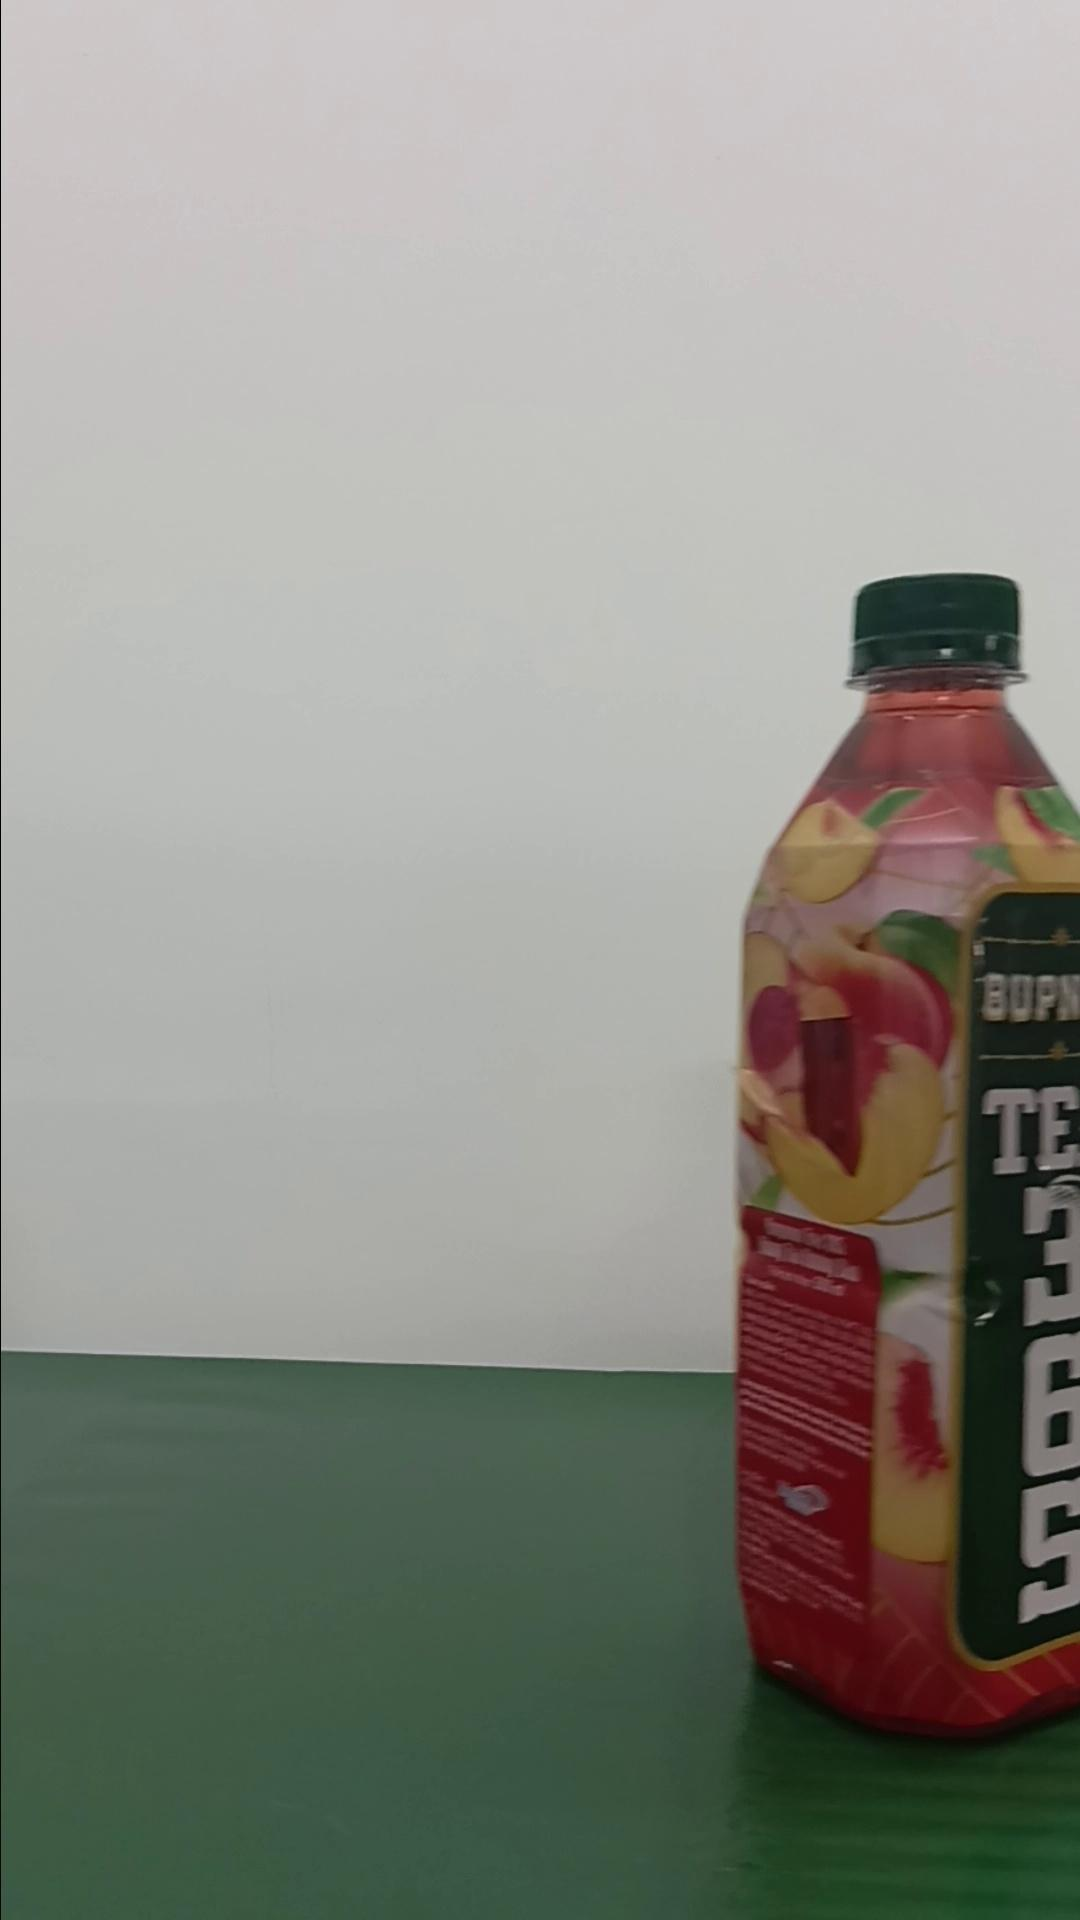loi rach va lap chai: (728, 568, 1080, 1753)
